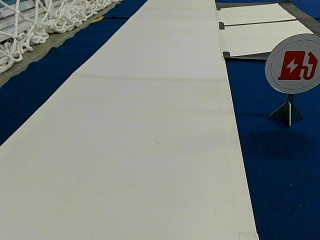battery: (264, 32, 319, 94)
